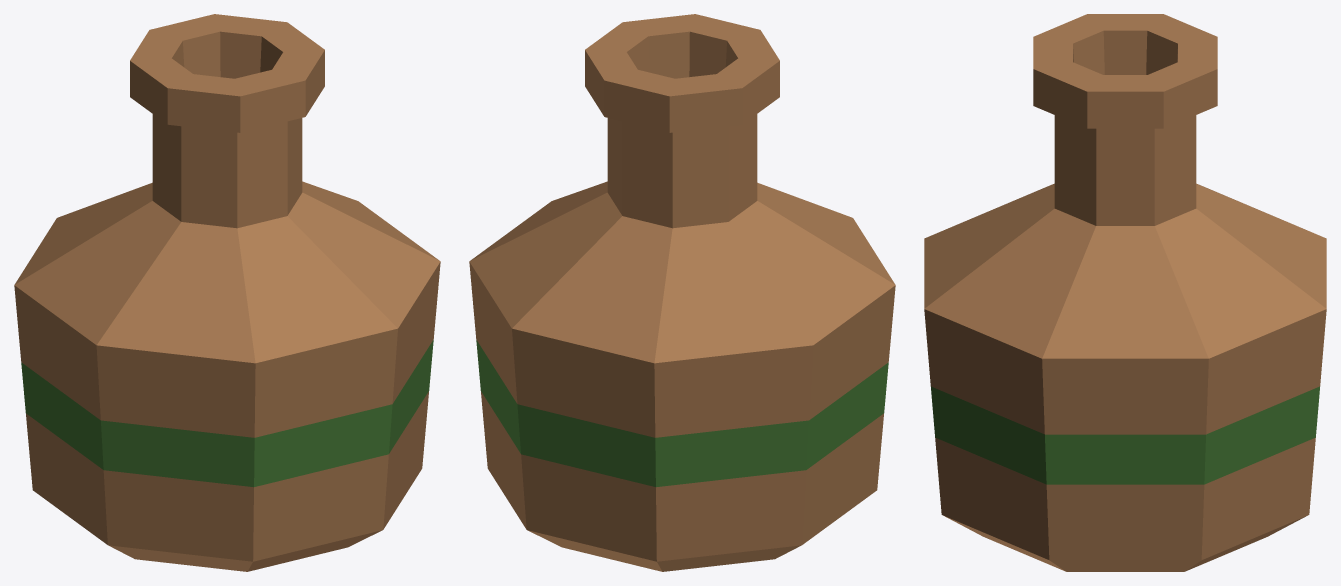
File: Jug_01.fbx
3 views of the same model, side by side, from view 1: azimuth 30°, elevation 25°; view 2: azimuth 150°, elevation 25°; view 3: azimuth 270°, elevation 25° (orthographic).
Visible parts, largest first — view 1: Jug_01; view 2: Jug_01; view 3: Jug_01.
Boxes of the visible parts, <box> form: Jug_01: <box>14,14,440,571</box>; Jug_01: <box>469,14,895,571</box>; Jug_01: <box>924,14,1326,571</box>.
Size of the model in its own units: 34.78 by 43.77 by 34.78.
